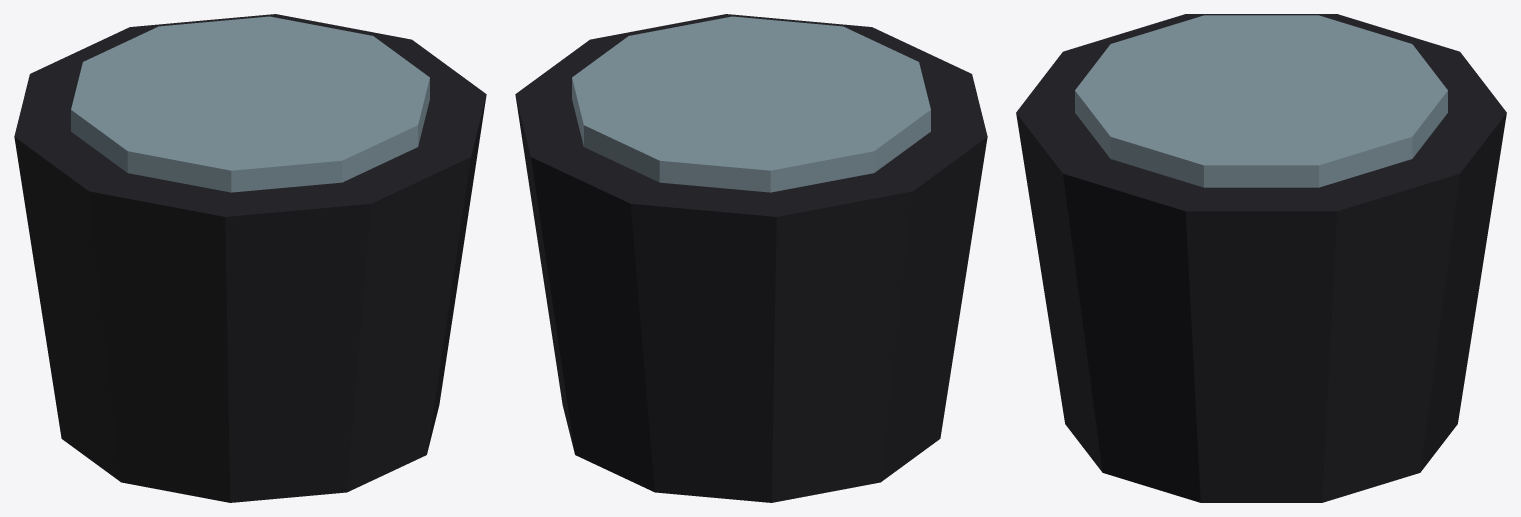
The model's file is jeweler_loupe.glb.
3 views of the same model, side by side, from view 1: azimuth 30°, elevation 25°; view 2: azimuth 150°, elevation 25°; view 3: azimuth 270°, elevation 25° (orthographic).
Parts seen in each view (by area): view 1: body_loupe_black, lens_loupe_lens; view 2: body_loupe_black, lens_loupe_lens; view 3: body_loupe_black, lens_loupe_lens.
Boxes of the visible parts, x1,y1,x2,y2 form: body_loupe_black: [14, 14, 486, 502]; lens_loupe_lens: [71, 16, 429, 192]; body_loupe_black: [515, 14, 987, 502]; lens_loupe_lens: [572, 16, 930, 192]; body_loupe_black: [1016, 14, 1506, 502]; lens_loupe_lens: [1075, 15, 1447, 187].
Size of the model in its own units: 0.0476 by 0.0375 by 0.05.
